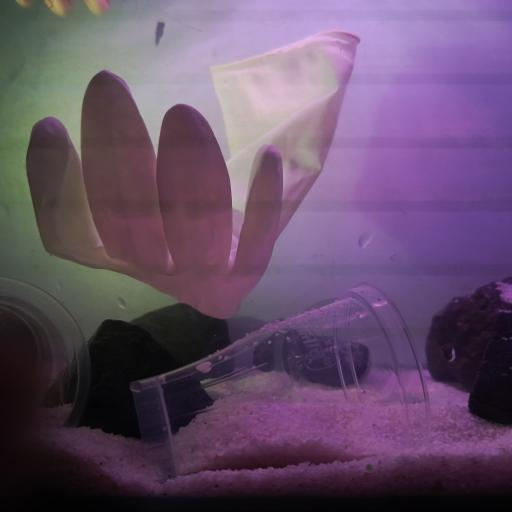glove: (24, 25, 358, 323)
plastic_cup: (129, 282, 432, 484), (1, 275, 92, 448)
